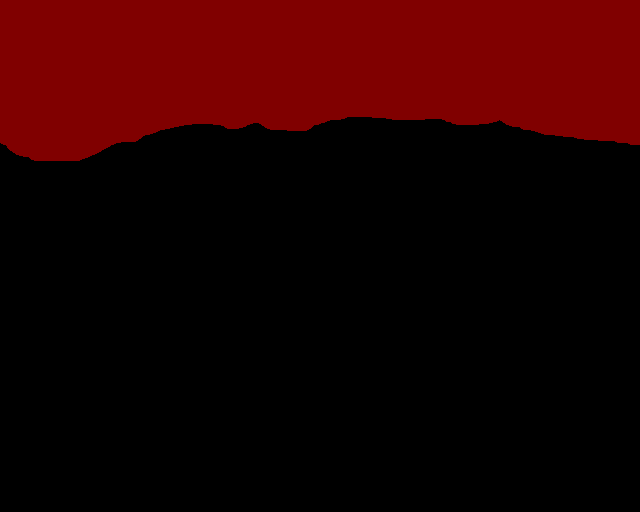Sky: (1, 1, 639, 161)
